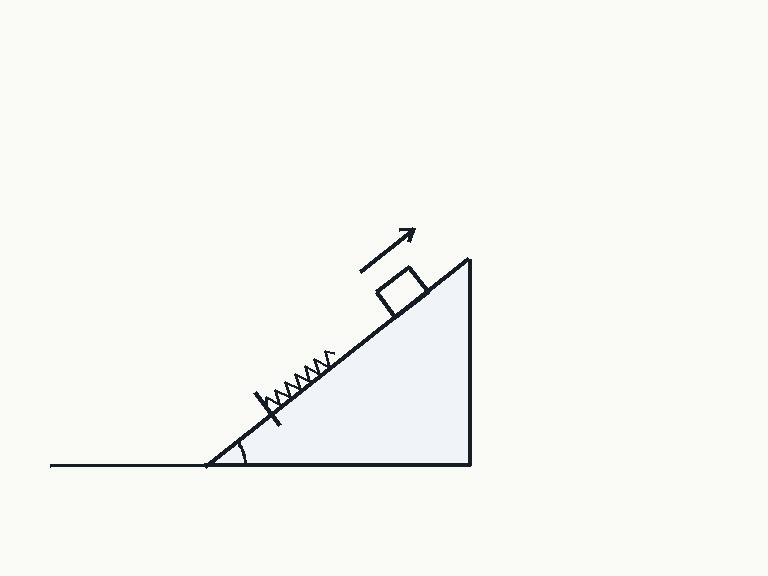block: (374, 265, 429, 319)
ramp: (203, 257, 471, 467)
spring: (263, 349, 336, 408)
